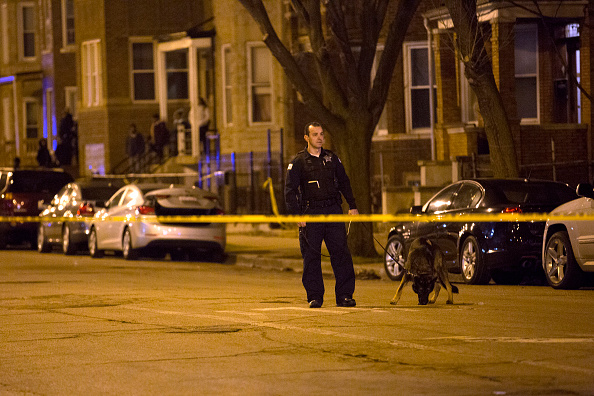em pe: (277, 113, 352, 309)
